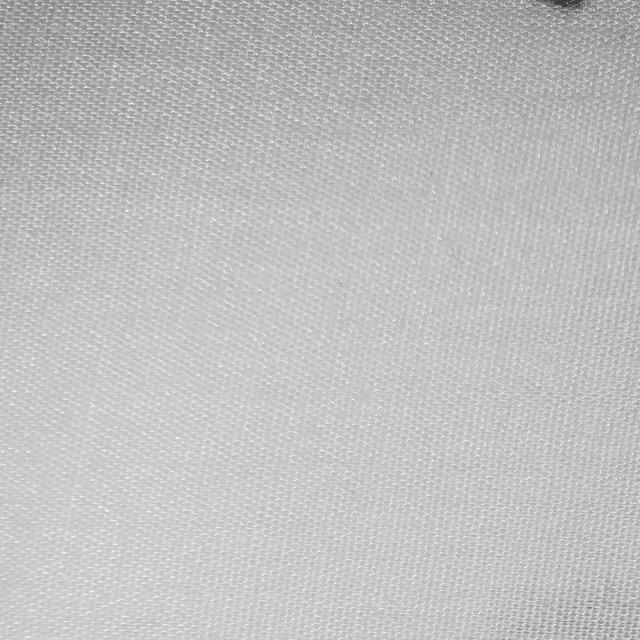Stain: (536, 0, 590, 14)
